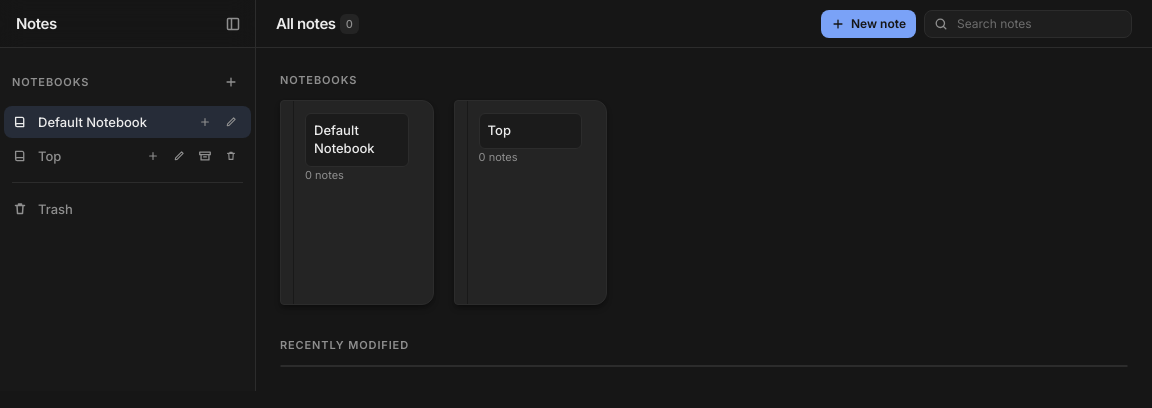
Test: NotesView, the notebook sidebar › shows the notebooks above the open one in the pane header, folding the middle
The image size is (1152, 408).
Click the button "Top": (86, 156) [4, 140, 167, 172]
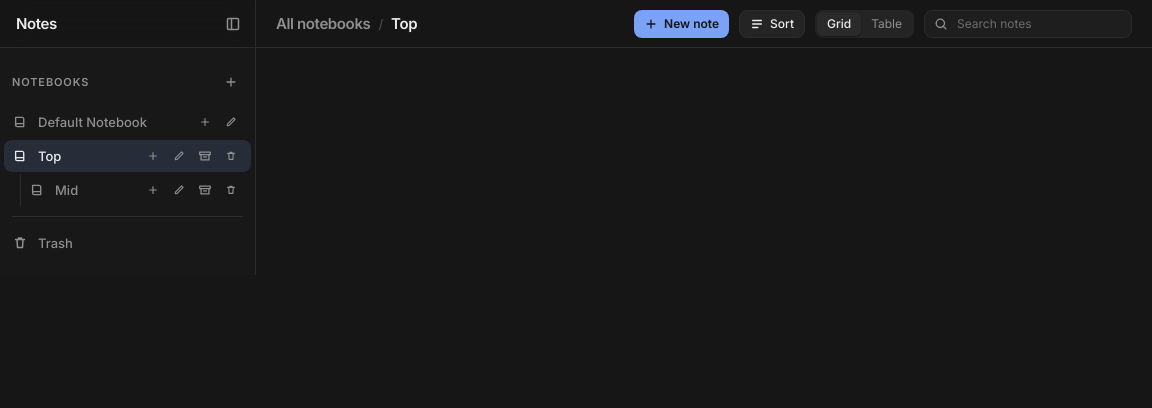
Click the button "Mid": (94, 190) [21, 174, 167, 206]
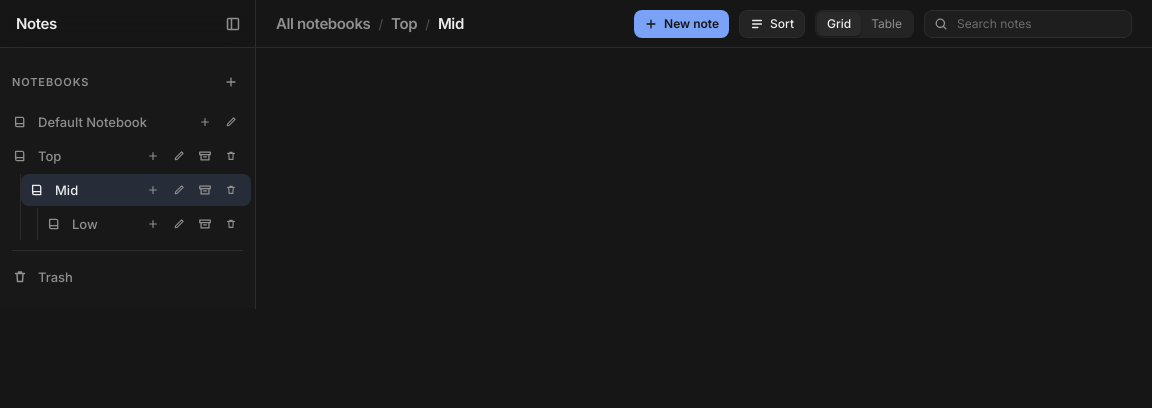
Click the button "Low": (102, 224) [38, 208, 167, 240]
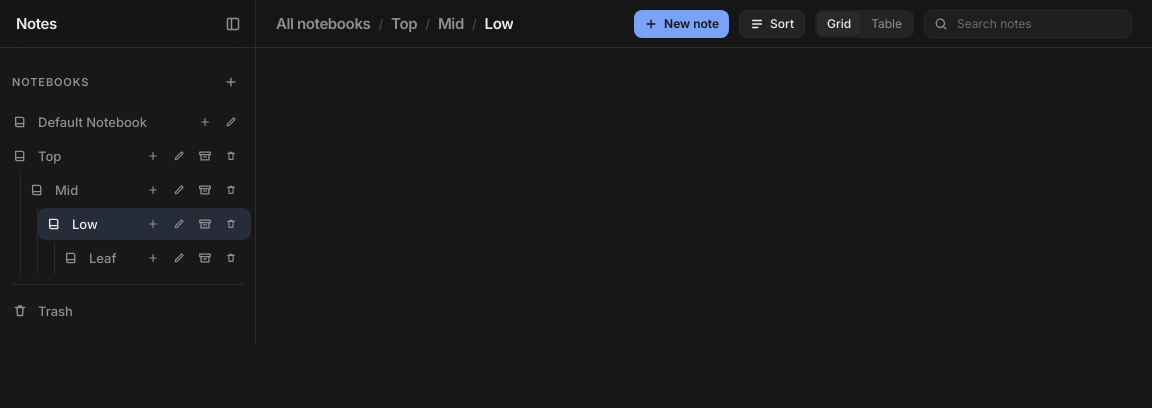
Click the button "Leaf": (111, 258) [55, 242, 167, 274]
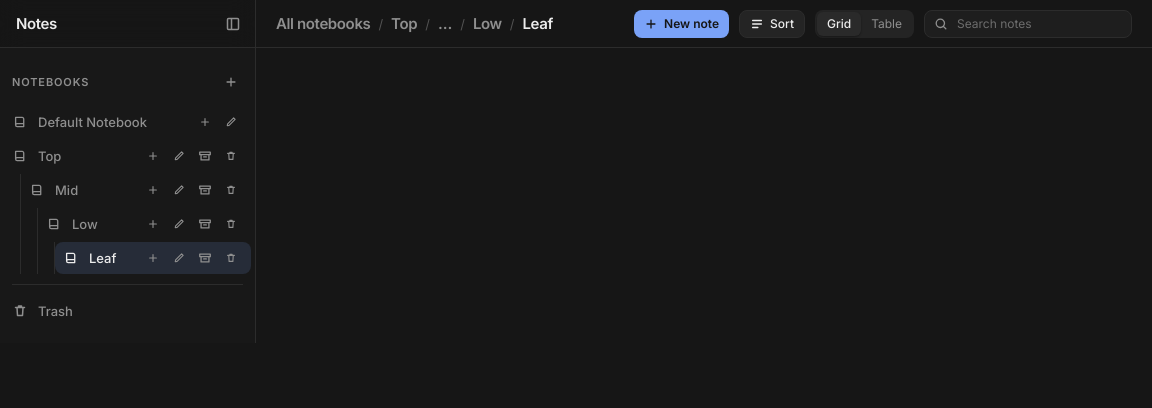
Expected: the 1st button "Top" is shown, [391, 12, 417, 34]
Now the 1st button "Low" is shown
Now the text titled "Mid" is shown, box [438, 12, 452, 34]
Click the 1st button "Low": (487, 24) [473, 12, 502, 34]
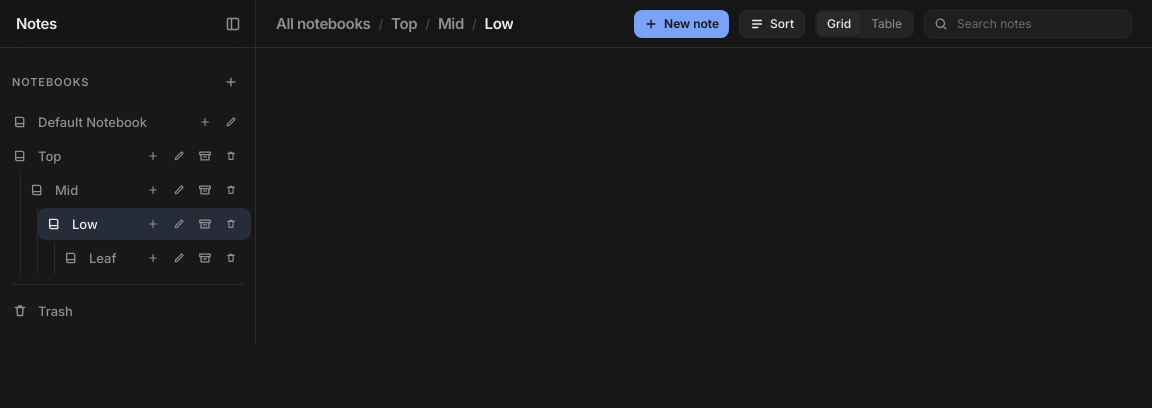
Now the heading "Low" is shown, box [485, 12, 514, 34]
